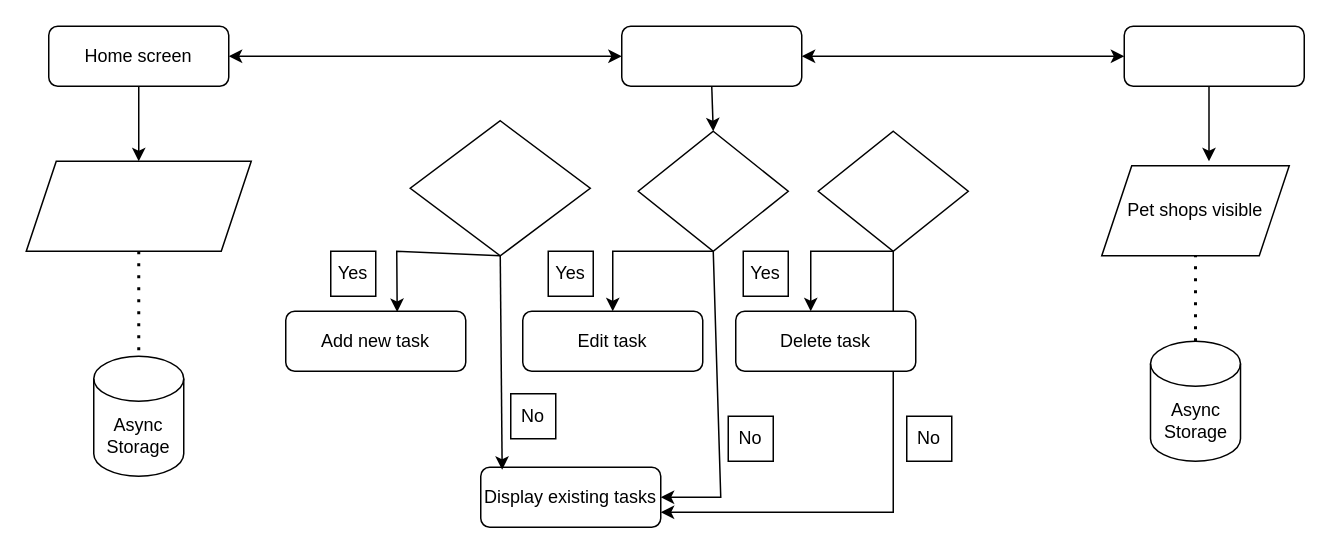
This 1331x554 diagram has some shape labels left out. The shapes that lost their labels are listed below. From the top down, each one's box as (x1, y1, x2, y2) in pixels, then its label:
(620, 25, 802, 86): Reminders screen
(1123, 25, 1304, 86): Map screen
(25, 160, 251, 251): Photos of animals and pieces of advice
(409, 119, 590, 256): New task to be added?
(637, 130, 788, 251): Task to be edited?
(817, 130, 968, 251): Task to be deleted?
